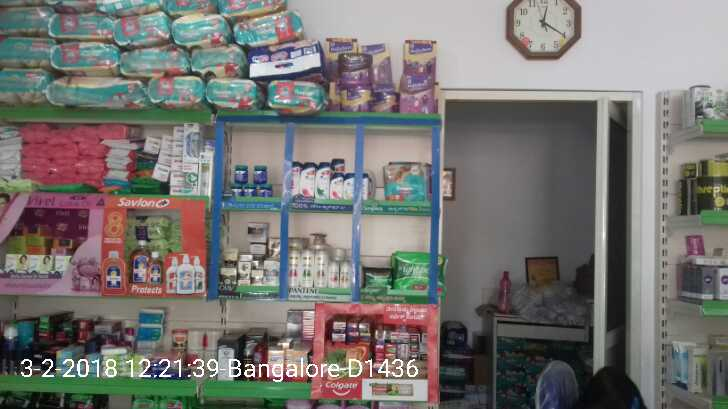beauty: (296, 246, 314, 289), (283, 245, 300, 289), (315, 165, 332, 202), (301, 162, 317, 199), (263, 256, 281, 287), (244, 219, 268, 241)
pharmacy: (389, 249, 449, 296), (52, 79, 147, 108), (48, 39, 118, 73), (380, 158, 431, 203), (205, 77, 261, 115), (263, 82, 323, 117), (114, 48, 188, 76), (189, 45, 240, 73), (359, 263, 392, 296), (231, 163, 252, 188), (249, 162, 269, 182)
